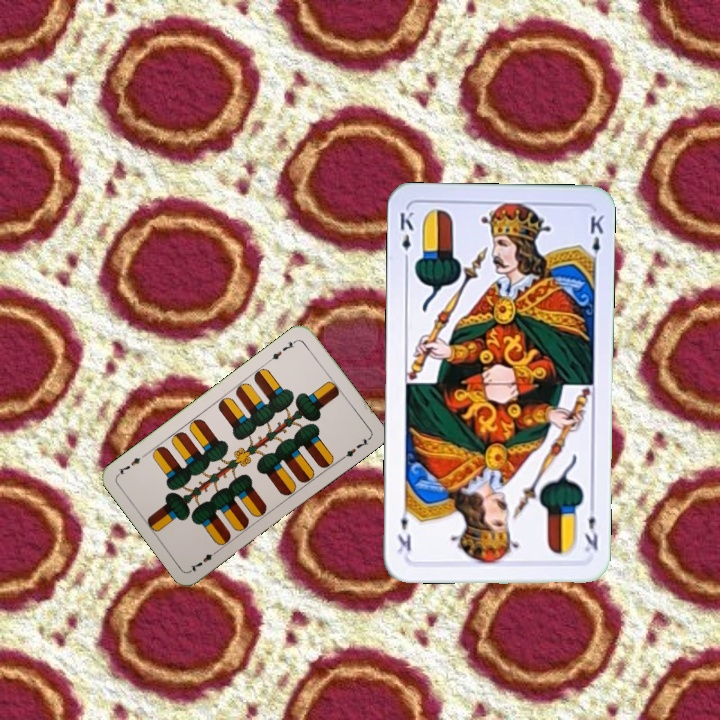E7: (264, 335, 300, 364), (186, 545, 221, 574)
EK: (396, 207, 417, 266), (580, 500, 600, 555)
